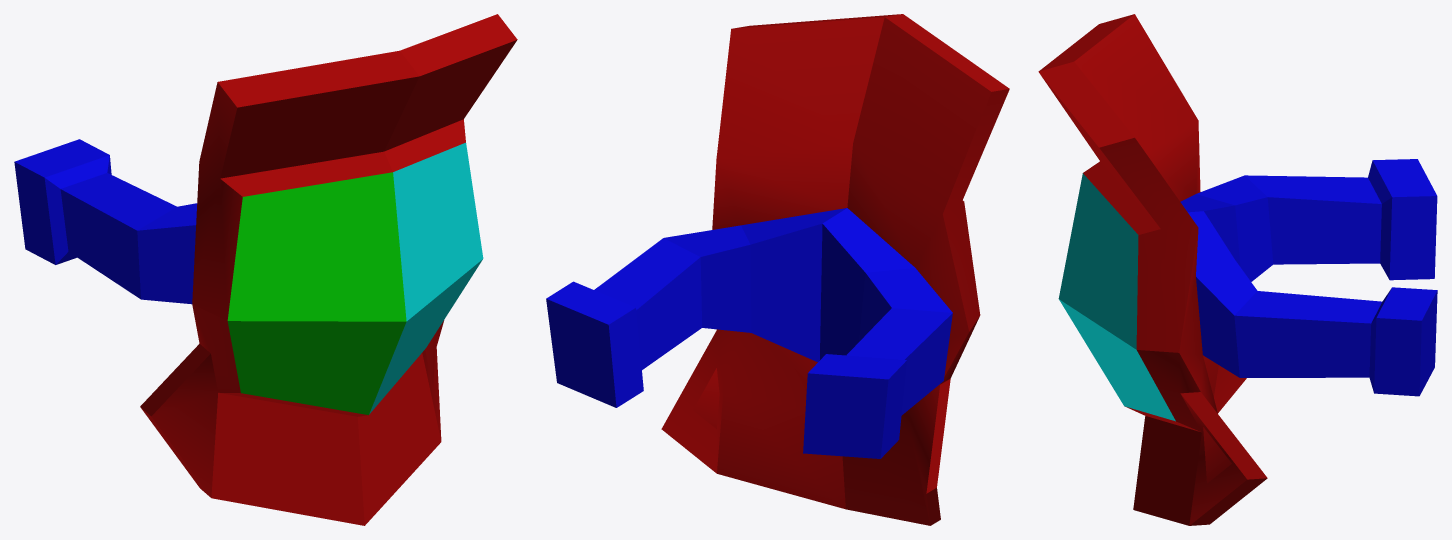
Rendered from Chr_KneeAttachLeft_Static_05.fbx.
The picture shows the model from 3 angles, left to right: view 1: azimuth 30°, elevation 25°; view 2: azimuth 150°, elevation 25°; view 3: azimuth 270°, elevation 25°; orthographic projection. The views are drawn at different scales.
Visible parts, largest first — view 1: Chr_KneeAttachLeft_05; view 2: Chr_KneeAttachLeft_05; view 3: Chr_KneeAttachLeft_05.
Part boxes in pixels (x1,y1,x2,y2): Chr_KneeAttachLeft_05: (14,14,517,525); Chr_KneeAttachLeft_05: (546,14,1009,525); Chr_KneeAttachLeft_05: (1038,14,1437,525).
Size of the model in its own units: 14.54 by 18.9 by 15.22.
